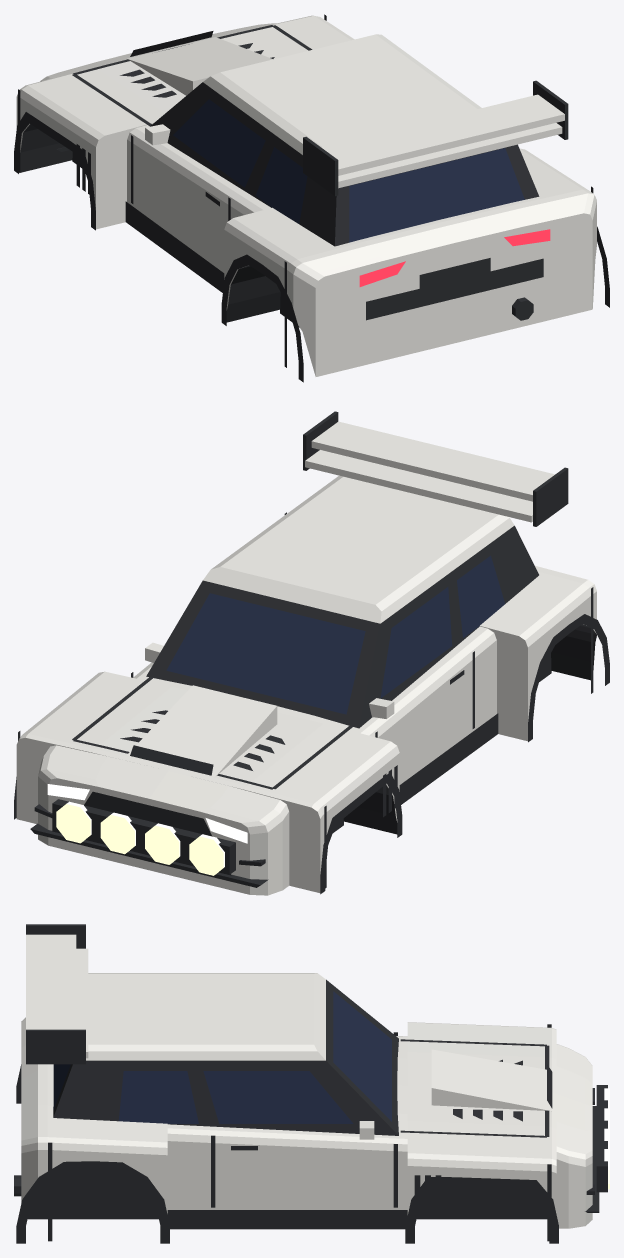
File: Tsubasa.glb
The picture shows the model from 3 angles, top to bottom: view 1: azimuth 30°, elevation 25°; view 2: azimuth 150°, elevation 25°; view 3: azimuth 270°, elevation 25°; orthographic projection. The views are drawn at different scales.
Parts seen in each view (by area): view 1: BumperRear, Roof, RoofWingBlade, RearWindow, Hood, Door_FL, Pillars, Fender_FL, Cowl, Window_FL, Opt_Hood_Scoop_HoodScoop, Underbody (+13 smaller); view 2: Roof, BumperFront, Hood, Windshield, Pillars, RoofWingBlade, Fender_RL, Opt_Hood_Scoop_HoodScoop, Door_FL, Opt_Bumper_Lamps_RallyLamp, Window_FL, Cowl (+13 smaller); view 3: Roof, Door_FR, Hood, Pillars, WheelWell, BumperFront, Fender_RR, Window_FR, RoofWingBlade, Opt_Hood_Scoop_HoodScoop, Rocker_R, Windshield (+13 smaller).
Part boxes in pixels (x1,y1,x2,y2): BumperRear: (288,189,596,376); Roof: (203,34,481,154); RoofWingBlade: (321,94,564,188); RearWindow: (349,148,524,242); Hood: (28,16,350,135); Door_FL: (132,131,240,272); Pillars: (150,82,539,246); Fender_FL: (20,85,140,229); Cowl: (141,130,582,259); Window_FL: (173,99,265,187); Opt_Hood_Scoop_HoodScoop: (127,37,272,95); Underbody: (19,124,280,322); Roof: (203,476,514,623); BumperFront: (16,734,322,895); Hood: (28,671,390,803); Windshield: (166,593,365,714); Pillars: (146,525,538,728); RoofWingBlade: (305,421,554,522); Fender_RL: (465,583,590,741); Opt_Hood_Scoop_HoodScoop: (127,685,277,776); Door_FL: (365,648,473,784); Opt_Bumper_Lamps_RallyLamp: (56,801,224,875); Window_FL: (380,587,452,698); Cowl: (141,571,582,729); Roof: (86,973,325,1060); Door_FR: (211,1130,398,1209); Hood: (398,1022,551,1158); Pillars: (53,979,398,1135); WheelWell: (27,1170,547,1219); BumperFront: (552,1028,592,1228); Fender_RR: (47,1128,210,1213); Window_FR: (203,1071,353,1123); RoofWingBlade: (26,934,88,1058); Opt_Hood_Scoop_HoodScoop: (431,1049,551,1111); Rocker_R: (167,1210,407,1229); Windshield: (333,991,391,1121).
Bounding box in the file's own units: 6.9 × 4.5 × 12.41.
